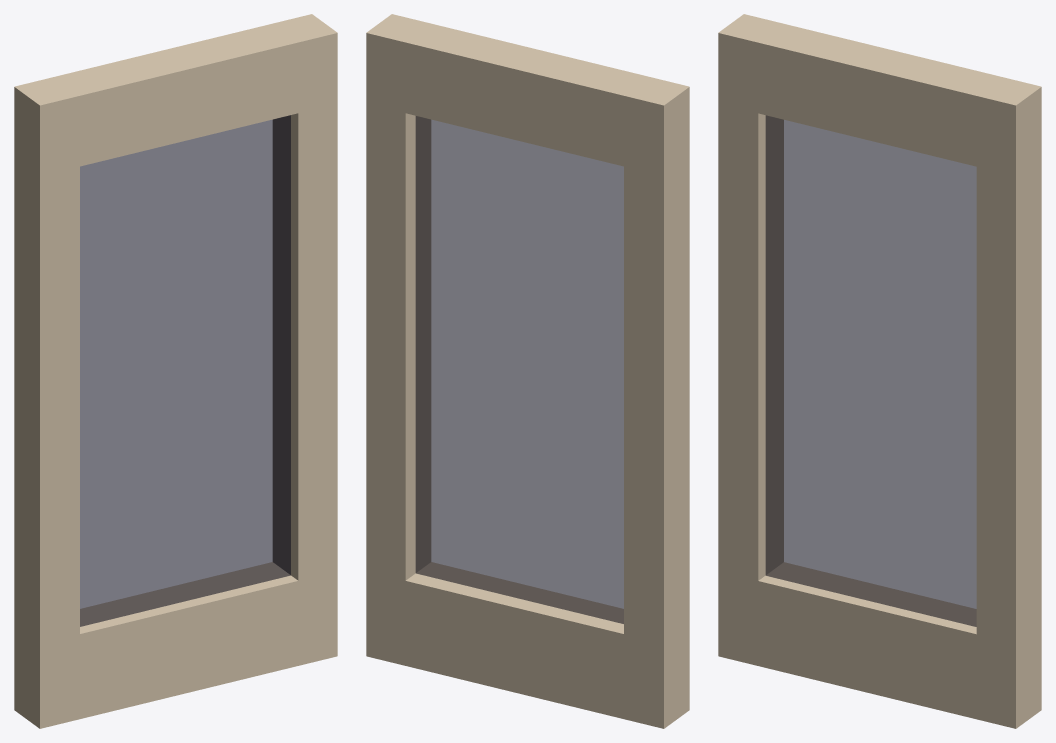
Rendered from CreamWindowLarge.glb.
The picture shows the model from 3 angles, left to right: view 1: azimuth 30°, elevation 25°; view 2: azimuth 150°, elevation 25°; view 3: azimuth 330°, elevation 25°; orthographic projection.
Parts seen in each view (by area): view 1: wall_largeWindow_cream; view 2: wall_largeWindow_cream; view 3: wall_largeWindow_cream.
Boxes of the visible parts, x1,y1,x2,y2 form: wall_largeWindow_cream: [14, 14, 337, 728]; wall_largeWindow_cream: [366, 14, 689, 728]; wall_largeWindow_cream: [718, 14, 1041, 728].
Size of what is drawn, in the model's own units: 2 by 4 by 0.3.
2 materials, 2 textured.
